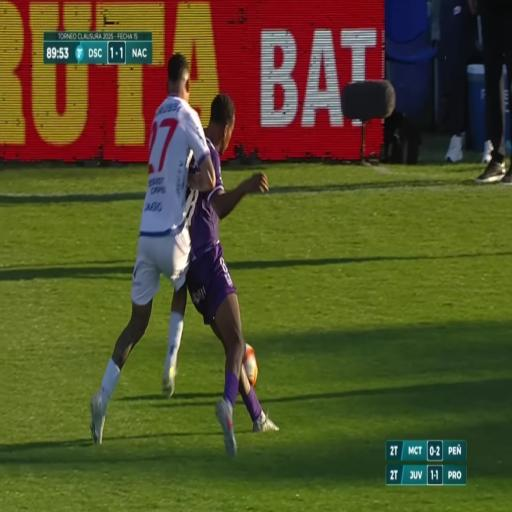Ball: (239, 342, 261, 392)
Player: (111, 58, 195, 434), (185, 82, 257, 442)
